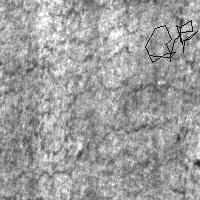crazing: (4, 98, 184, 184), (11, 35, 197, 109), (1, 1, 186, 54), (145, 20, 197, 62)
